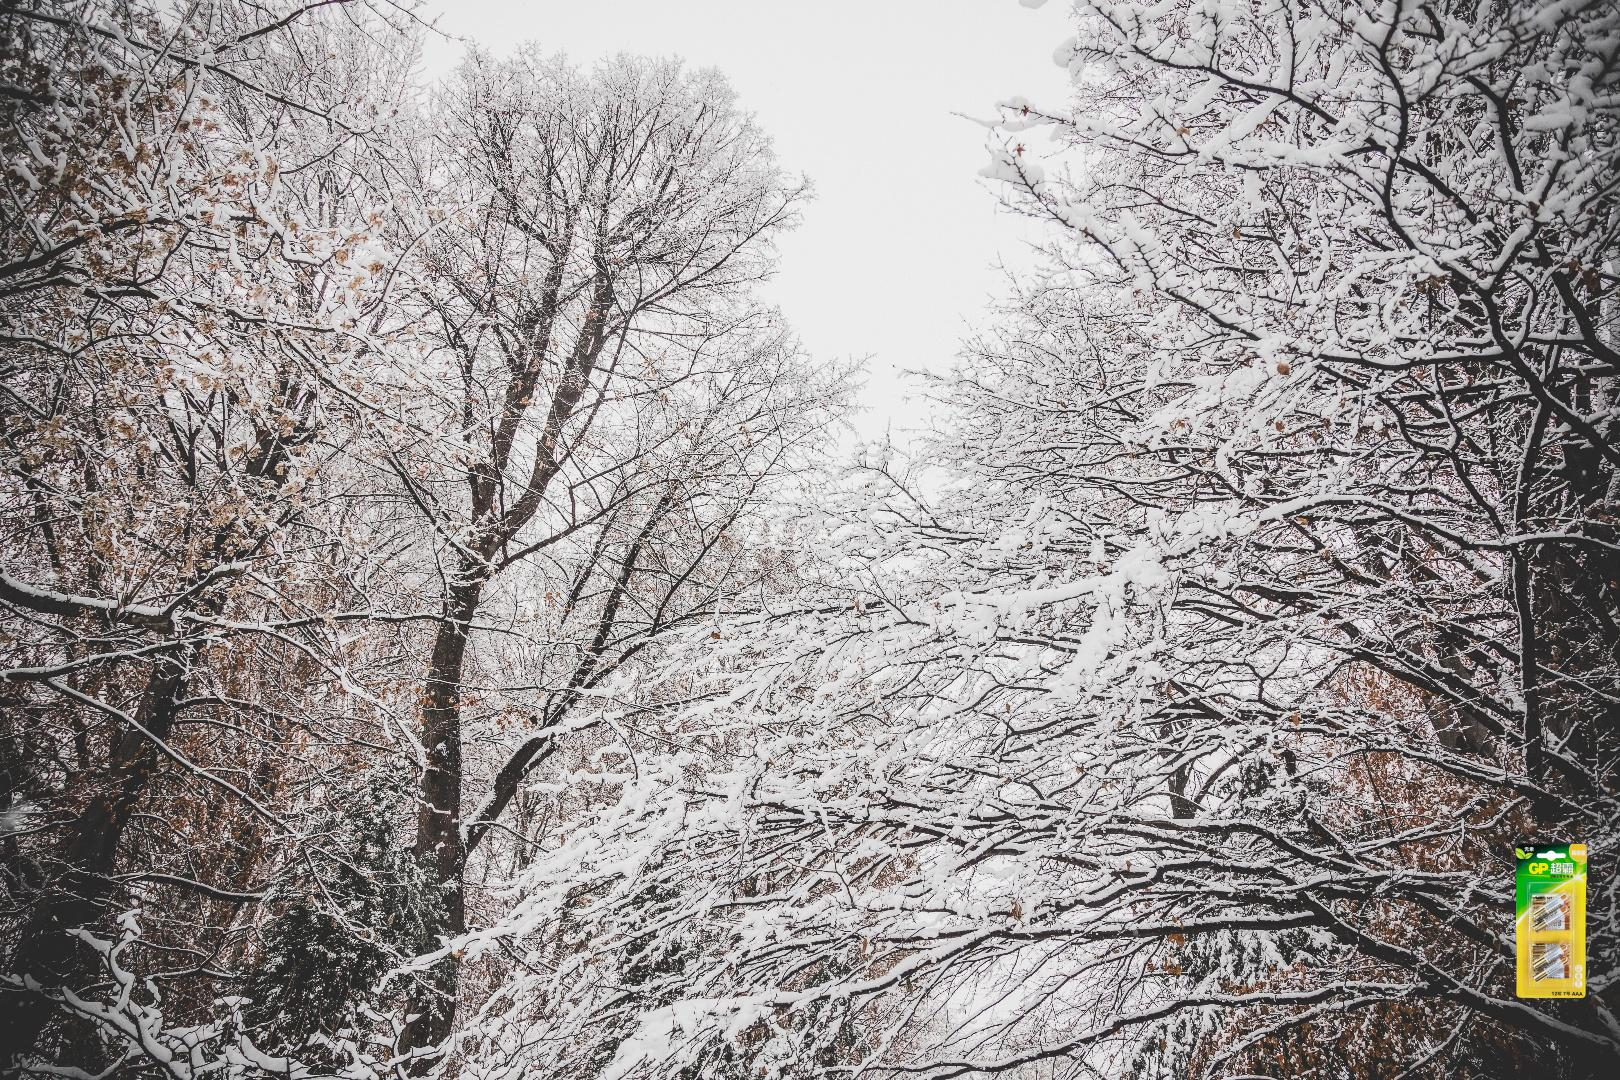battery: (1512, 841, 1590, 1000)
glass: (1615, 592, 1620, 755)
